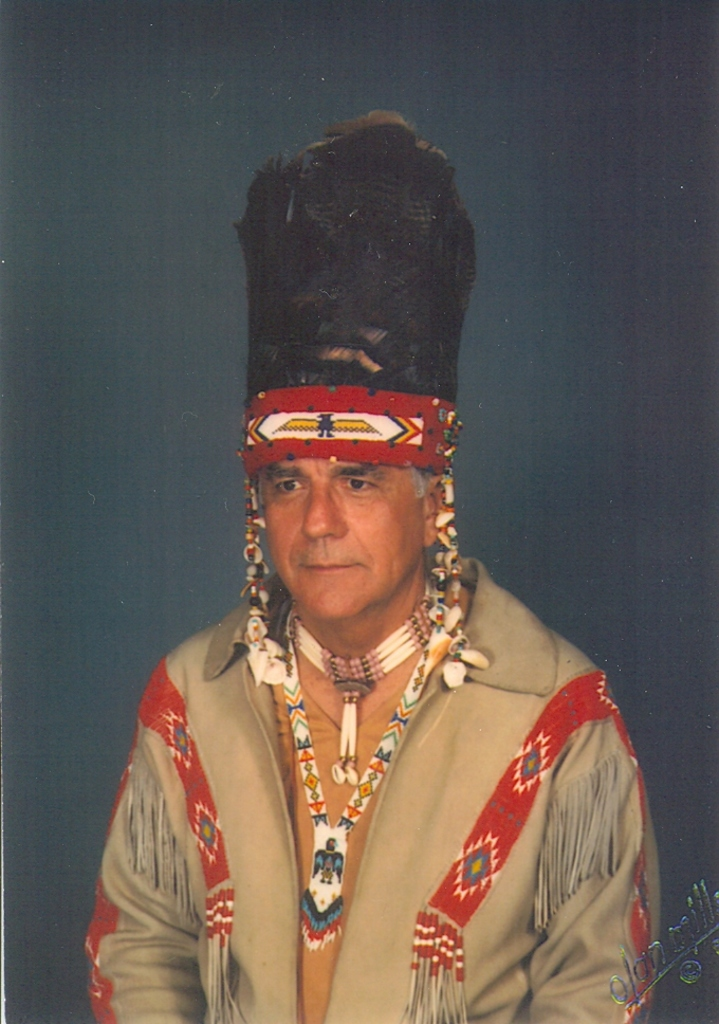Person: (83, 109, 662, 1024)
